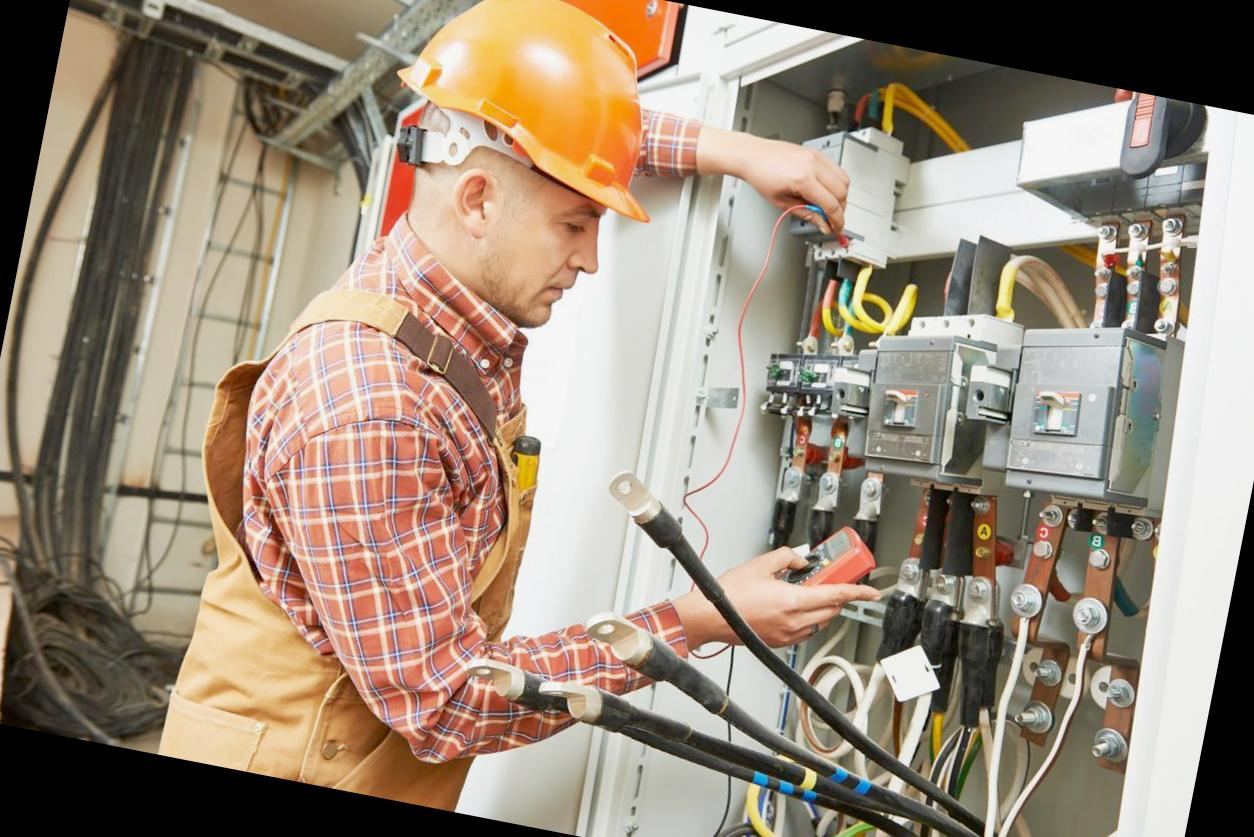helmet: (371, 0, 704, 248)
no_vest: (104, 211, 622, 824)
person: (135, 0, 816, 837)
